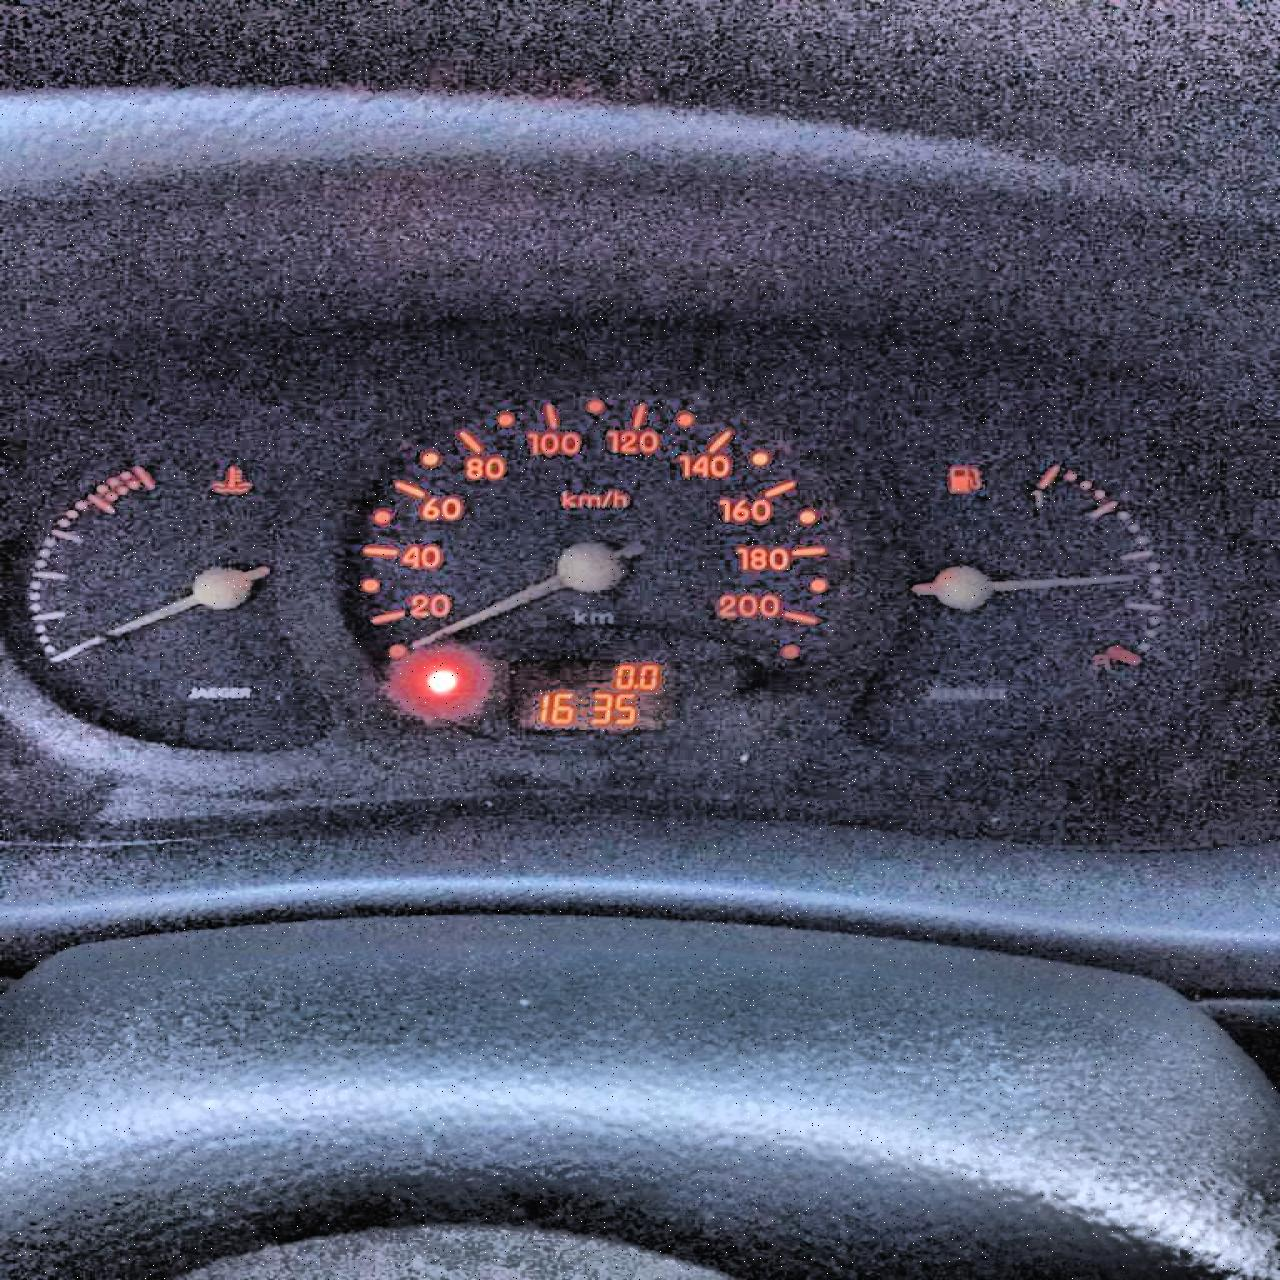-: (632, 682, 639, 688)
0: (639, 663, 659, 688), (614, 663, 633, 688)
1: (538, 693, 549, 722)
3: (588, 693, 612, 723)
5: (613, 693, 635, 723)
6: (550, 692, 576, 723)
odometer: (504, 655, 683, 735)
